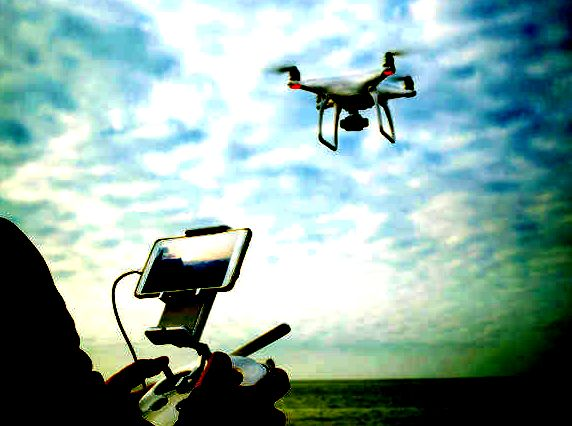Drone: (259, 46, 429, 156)
